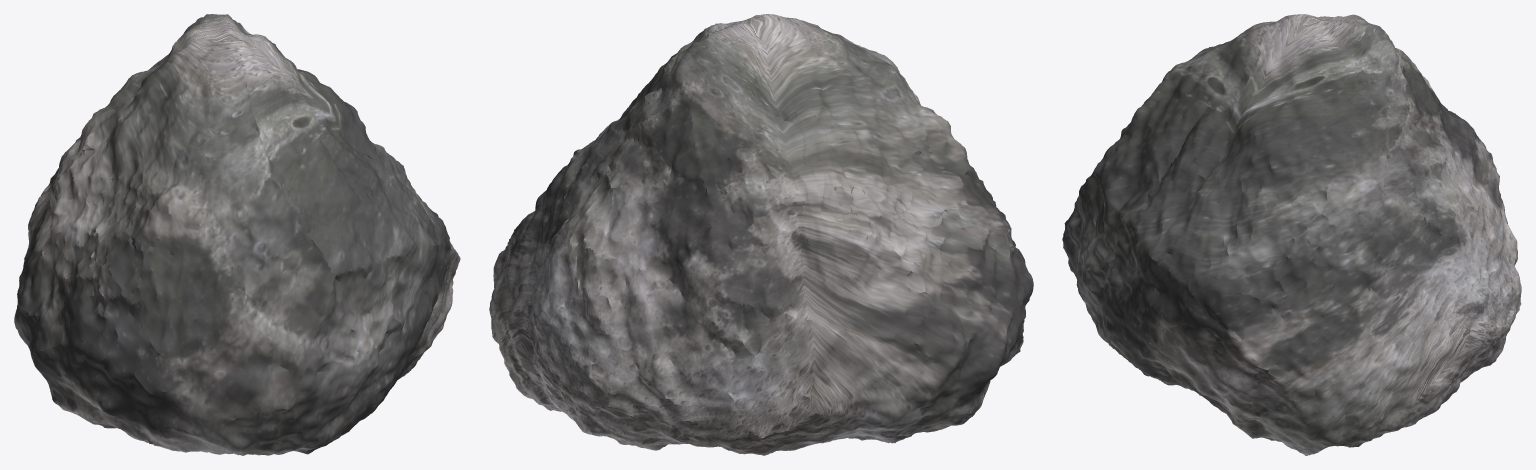
Rendered from astrto2.fbx.
3 renders of one model, left to right at view 1: azimuth 30°, elevation 25°; view 2: azimuth 150°, elevation 25°; view 3: azimuth 270°, elevation 25°, orthographic. The views are drawn at different scales.
Parts seen in each view (by area): view 1: rock.001; view 2: rock.001; view 3: rock.001.
Boxes of the visible parts, x1,y1,x2,y2 form: rock.001: (14,14,460,455); rock.001: (489,14,1033,455); rock.001: (1062,14,1521,455).
Bounding box in the file's own units: 102 × 87.89 × 95.79.
1 material, 1 textured.
